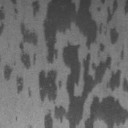red iron: (2, 0, 128, 128), (0, 6, 6, 36), (32, 0, 40, 16), (12, 8, 20, 20), (6, 43, 11, 48), (11, 0, 16, 4), (96, 8, 101, 12), (100, 0, 104, 4), (16, 116, 18, 120)
